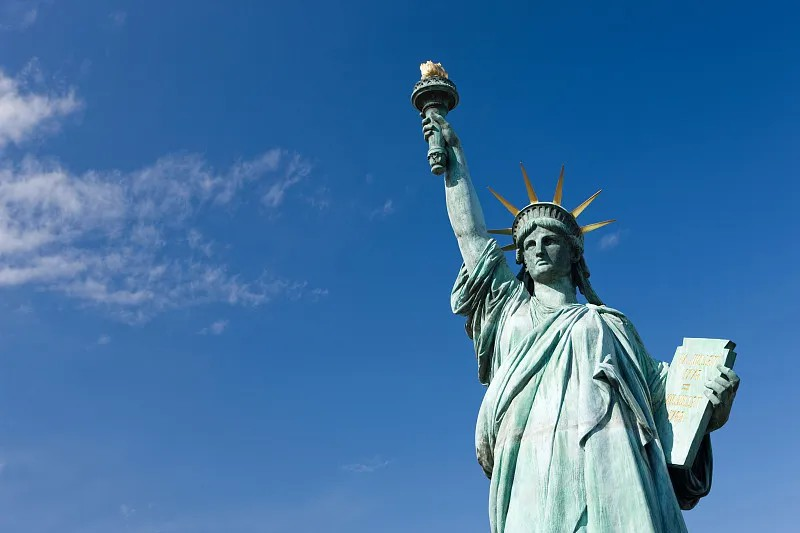SL: (411, 60, 741, 533)
